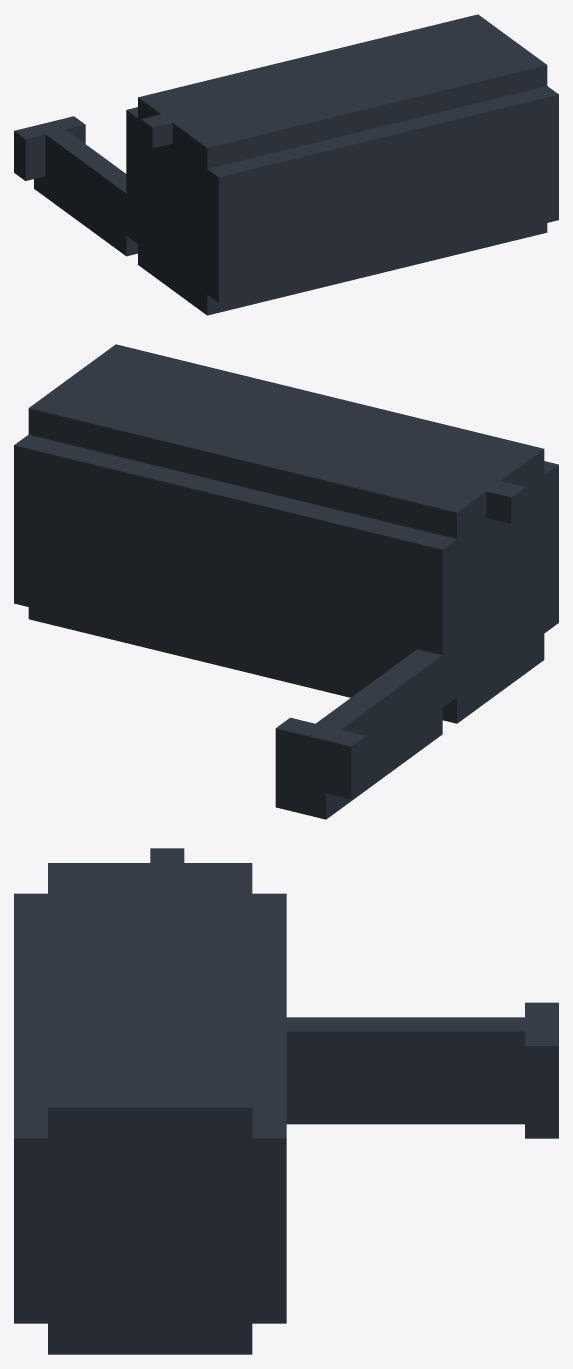
File: bolt_carrier_ak.glb
3 renders of one model, top to bottom at view 1: azimuth 30°, elevation 25°; view 2: azimuth 150°, elevation 25°; view 3: azimuth 270°, elevation 25°, orthographic. The views are drawn at different scales.
Visible parts, largest first — view 1: bolt_carrier_ak:bolt-carrier; view 2: bolt_carrier_ak:bolt-carrier; view 3: bolt_carrier_ak:bolt-carrier.
Boxes of the visible parts, x1,y1,x2,y2 form: bolt_carrier_ak:bolt-carrier: (14, 14, 558, 315); bolt_carrier_ak:bolt-carrier: (14, 344, 558, 819); bolt_carrier_ak:bolt-carrier: (14, 848, 558, 1354).
Bounding box in the file's own units: 0.072 × 0.032 × 0.064.
